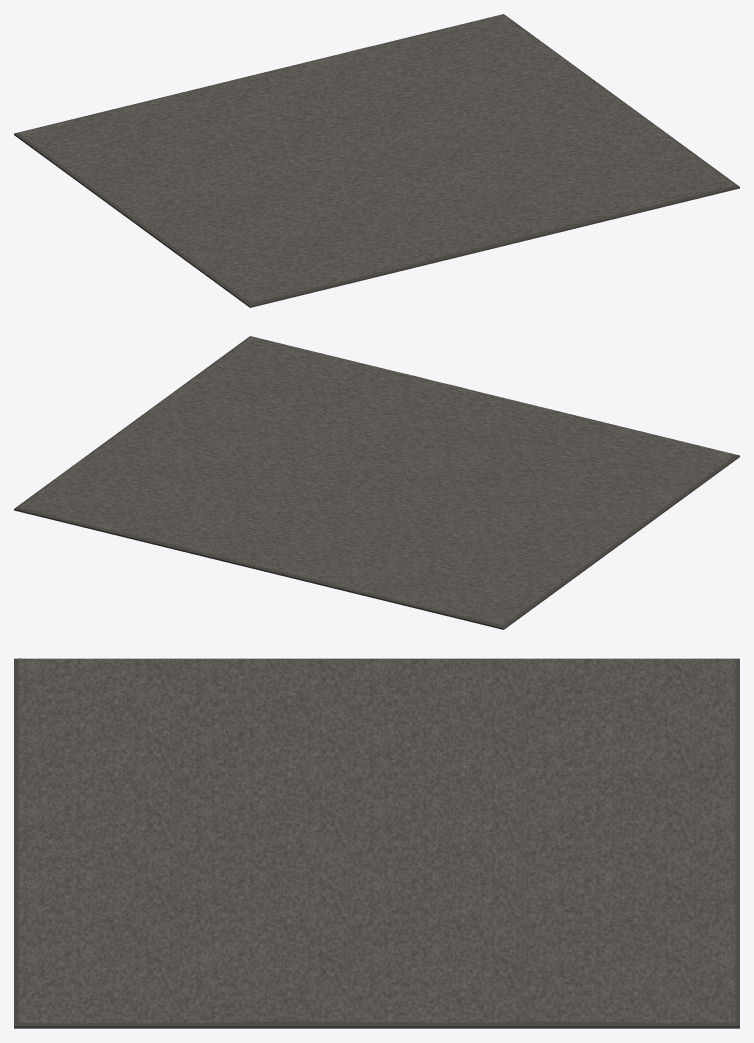
Rendered from rug5.glb.
3 views of the same model, one above another, from view 1: azimuth 30°, elevation 25°; view 2: azimuth 150°, elevation 25°; view 3: azimuth 270°, elevation 25° (orthographic). The views are drawn at different scales.
Parts seen in each view (by area): view 1: root; view 2: root; view 3: root.
Boxes of the visible parts, bbox=[...] form: root: bbox=[14, 14, 739, 307]; root: bbox=[14, 336, 739, 629]; root: bbox=[14, 658, 739, 1028].
Size of the model in its own units: 4.44 by 0.0299 by 3.71.
Materials: 2 (1 with a texture image).
